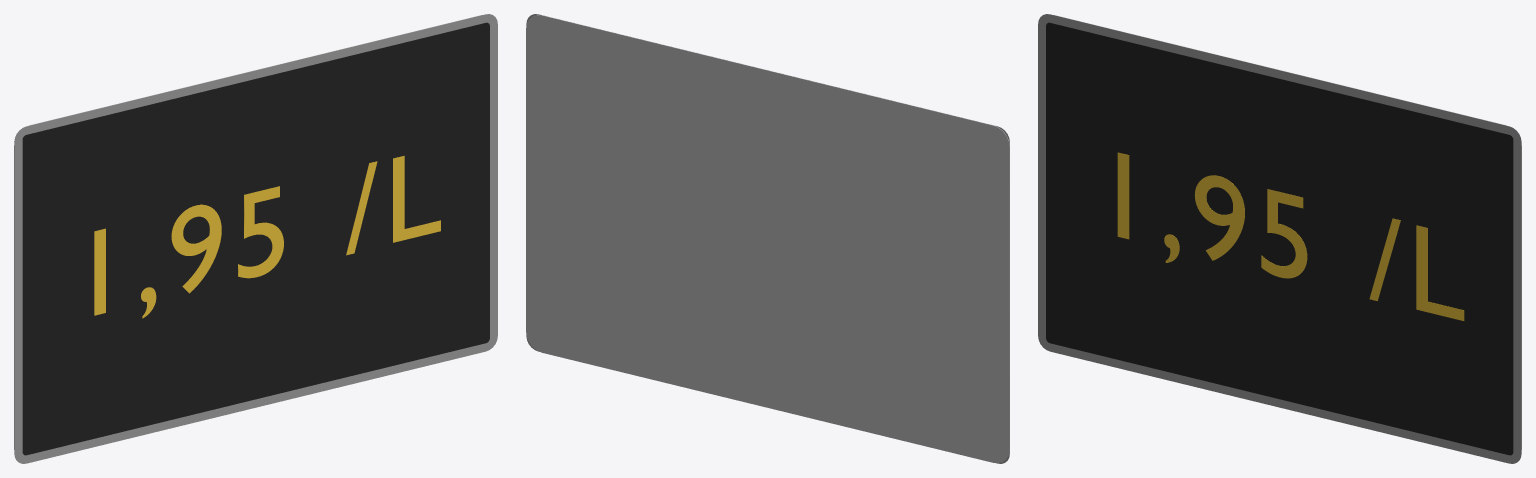
File: XCE15h.glb
3 renders of one model, left to right at view 1: azimuth 30°, elevation 25°; view 2: azimuth 150°, elevation 25°; view 3: azimuth 330°, elevation 25°, orthographic.
Parts seen in each view (by area): view 1: XCE15h_fond01, XCE15h_cadre00, XCE15h_txt02, XCE15h_dos; view 2: XCE15h_dos, XCE15h_cadre00; view 3: XCE15h_fond01, XCE15h_cadre00, XCE15h_txt02, XCE15h_dos.
Part boxes in pixels (x1,y1,x2,y2): XCE15h_fond01: (22, 22, 489, 455); XCE15h_cadre00: (14, 14, 497, 463); XCE15h_txt02: (94, 155, 440, 318); XCE15h_dos: (14, 15, 481, 449); XCE15h_dos: (526, 15, 1009, 463); XCE15h_cadre00: (526, 14, 1009, 463); XCE15h_fond01: (1046, 22, 1513, 455); XCE15h_cadre00: (1038, 14, 1521, 463); XCE15h_txt02: (1117, 152, 1464, 320); XCE15h_dos: (1054, 15, 1521, 449).
Size of the model in its own units: 1.2 by 0.8 by 0.0025.
